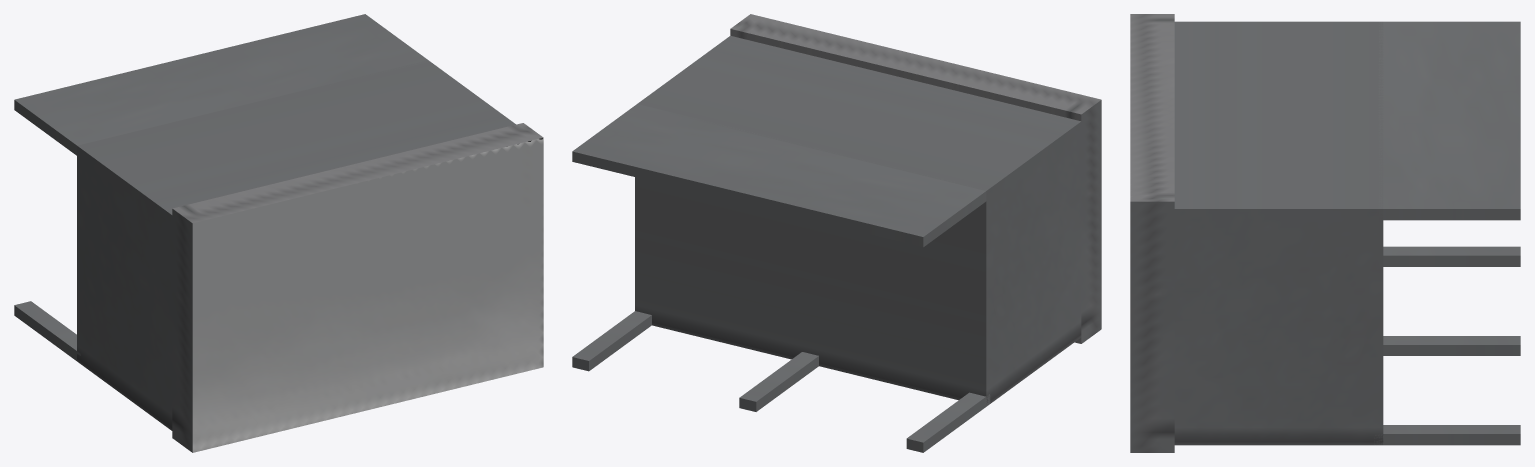
The model's file is pz_counter_steel_floor.obj.
3 views of the same model, side by side, from view 1: azimuth 30°, elevation 25°; view 2: azimuth 150°, elevation 25°; view 3: azimuth 270°, elevation 25° (orthographic). The views are drawn at different scales.
Bounding box in the file's own units: 1 × 0.625 × 0.88.
1 material, 1 textured.
